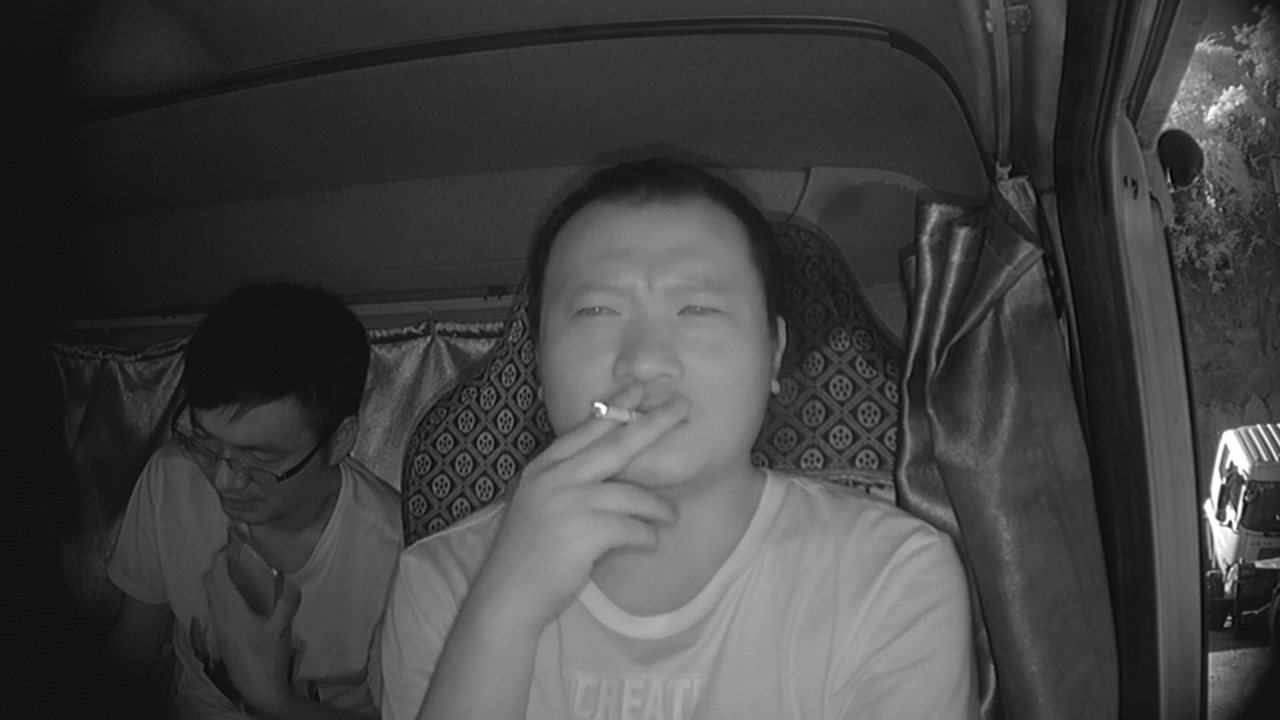hand: (524, 385, 701, 597)
